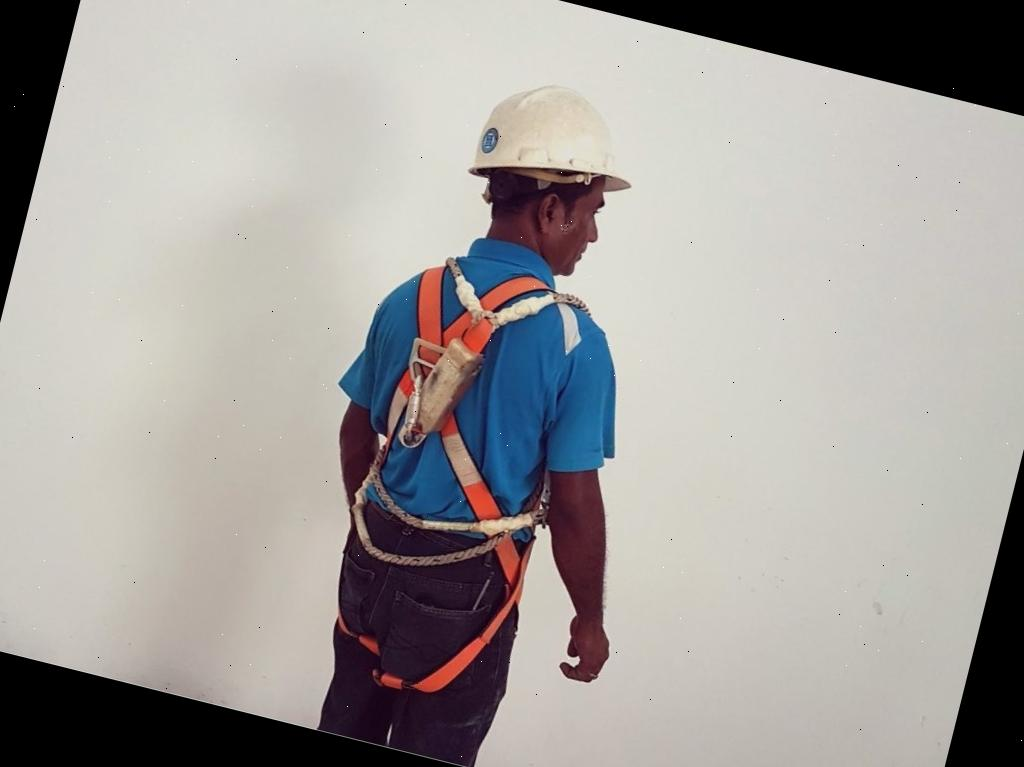helmet: (464, 70, 651, 214)
no_wear: (342, 247, 592, 549)
